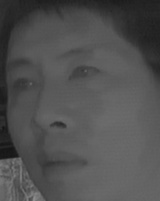eye: (64, 62, 101, 86), (7, 75, 39, 95)
mouth: (33, 146, 90, 181)
